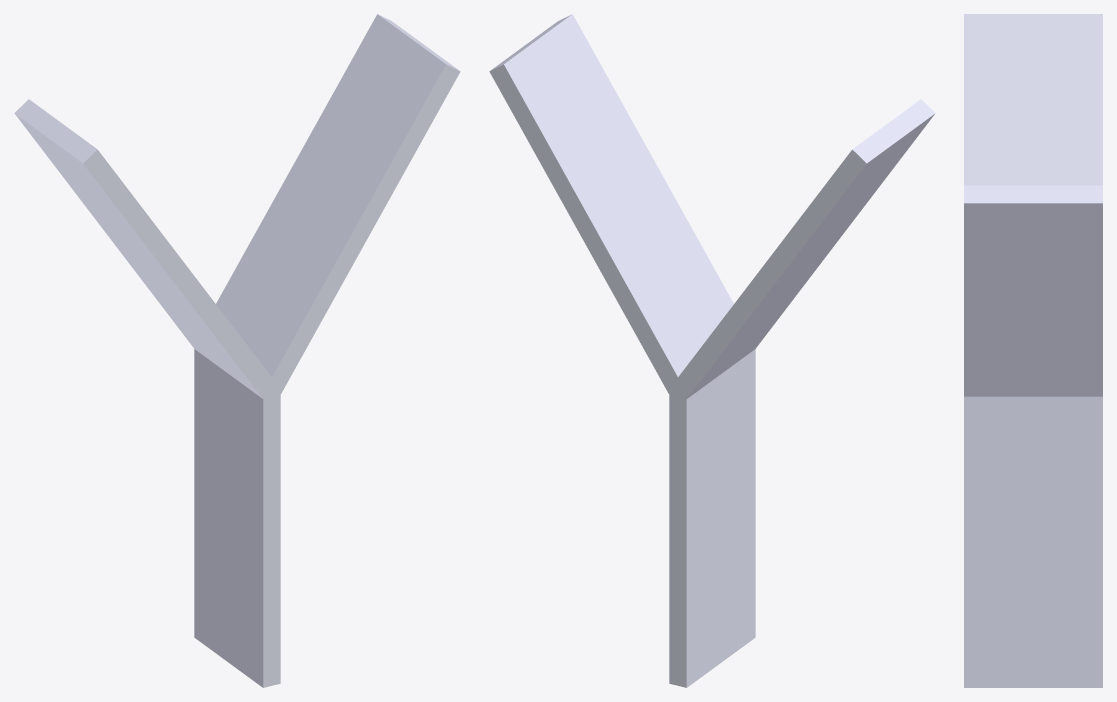
3 renders of one model, left to right at view 1: azimuth 30°, elevation 25°; view 2: azimuth 150°, elevation 25°; view 3: azimuth 270°, elevation 25°, orthographic.
Parts seen in each view (by area): view 1: y_AlphaProta_Grey; view 2: y_AlphaProta_Grey; view 3: y_AlphaProta_Grey.
Boxes of the visible parts, x1,y1,x2,y2 form: y_AlphaProta_Grey: [14, 14, 460, 687]; y_AlphaProta_Grey: [489, 14, 935, 687]; y_AlphaProta_Grey: [964, 14, 1102, 687].
Size of what is drawn, in the model's own units: 0.1425 by 0.2089 by 0.045.
2 materials, 2 textured.
